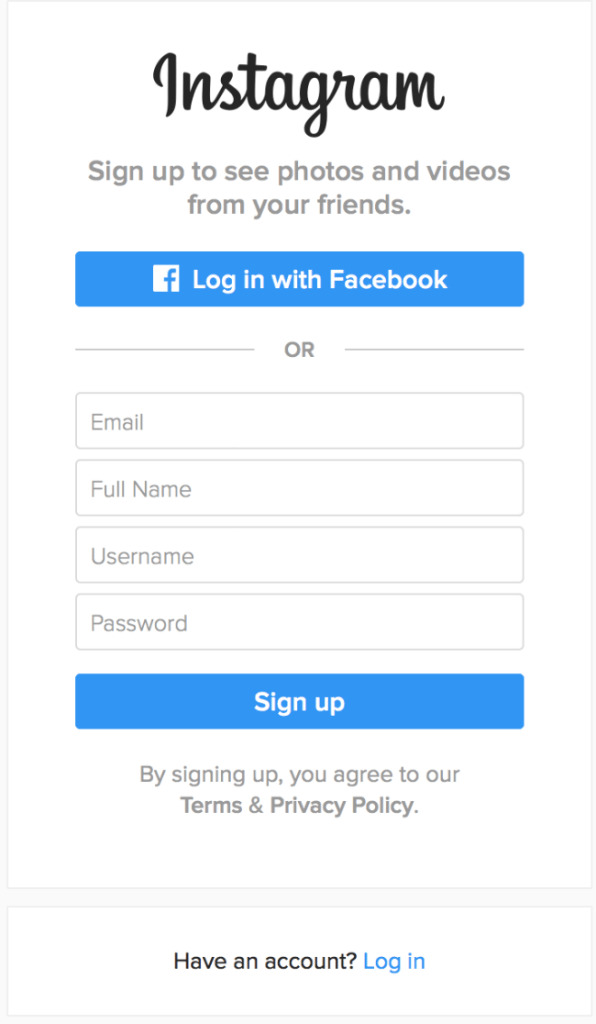_form_: (64, 240, 536, 655), (69, 376, 541, 791)
button: (73, 249, 525, 308), (73, 672, 525, 729)
field: (73, 391, 525, 451), (74, 459, 526, 518), (74, 592, 526, 651), (74, 525, 525, 584)
